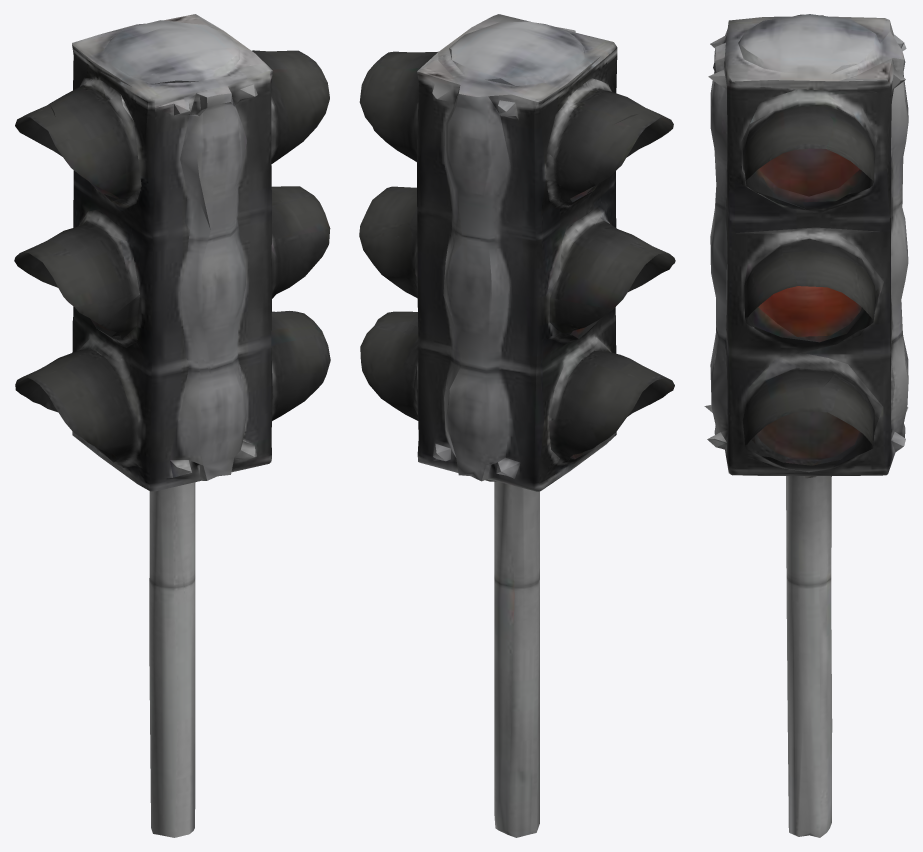
File: signal.glb
3 views of the same model, side by side, from view 1: azimuth 30°, elevation 25°; view 2: azimuth 150°, elevation 25°; view 3: azimuth 270°, elevation 25° (orthographic).
Parts seen in each view (by area): view 1: signal; view 2: signal; view 3: signal.
Part boxes in pixels (left/top/right/bottom): signal: left=14, top=14, right=330, bottom=837; signal: left=359, top=14, right=675, bottom=837; signal: left=704, top=14, right=908, bottom=837.
Size of the model in its own units: 1.74 by 4.8 by 1.12.
1 material, 1 textured.
